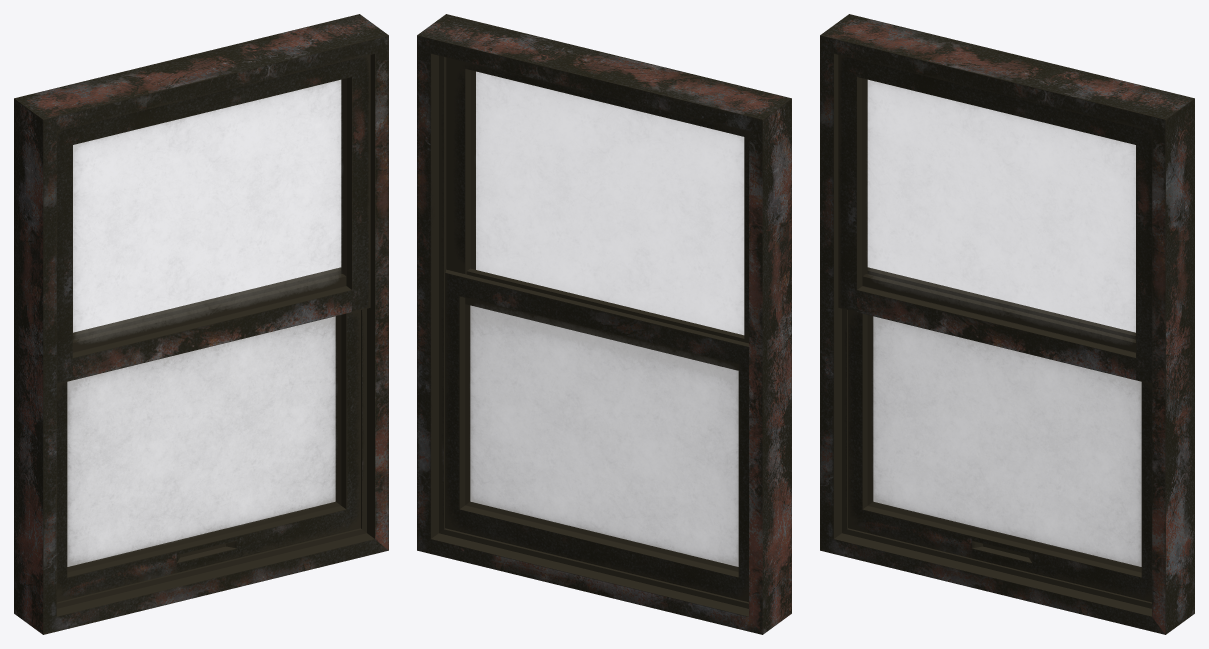
The model's file is window2.glb.
3 views of the same model, side by side, from view 1: azimuth 30°, elevation 25°; view 2: azimuth 150°, elevation 25°; view 3: azimuth 330°, elevation 25° (orthographic).
Parts seen in each view (by area): view 1: up, dow, f; view 2: dow, up, f; view 3: up, dow, f.
Part boxes in pixels (x1=…): up: x1=57, y1=55, x2=370, y2=383; dow: x1=57, y1=267, x2=360, y2=602; f: x1=14, y1=14, x2=388, y2=634; dow: x1=445, y1=268, x2=748, y2=602; up: x1=446, y1=57, x2=748, y2=370; f: x1=417, y1=14, x2=791, y2=634; up: x1=838, y1=55, x2=1151, y2=383; dow: x1=848, y1=267, x2=1151, y2=602; f: x1=820, y1=14, x2=1194, y2=634.
Bounding box in the file's own units: 1.8 × 2.56 × 0.2633.
Materials: 3 (3 with a texture image).
